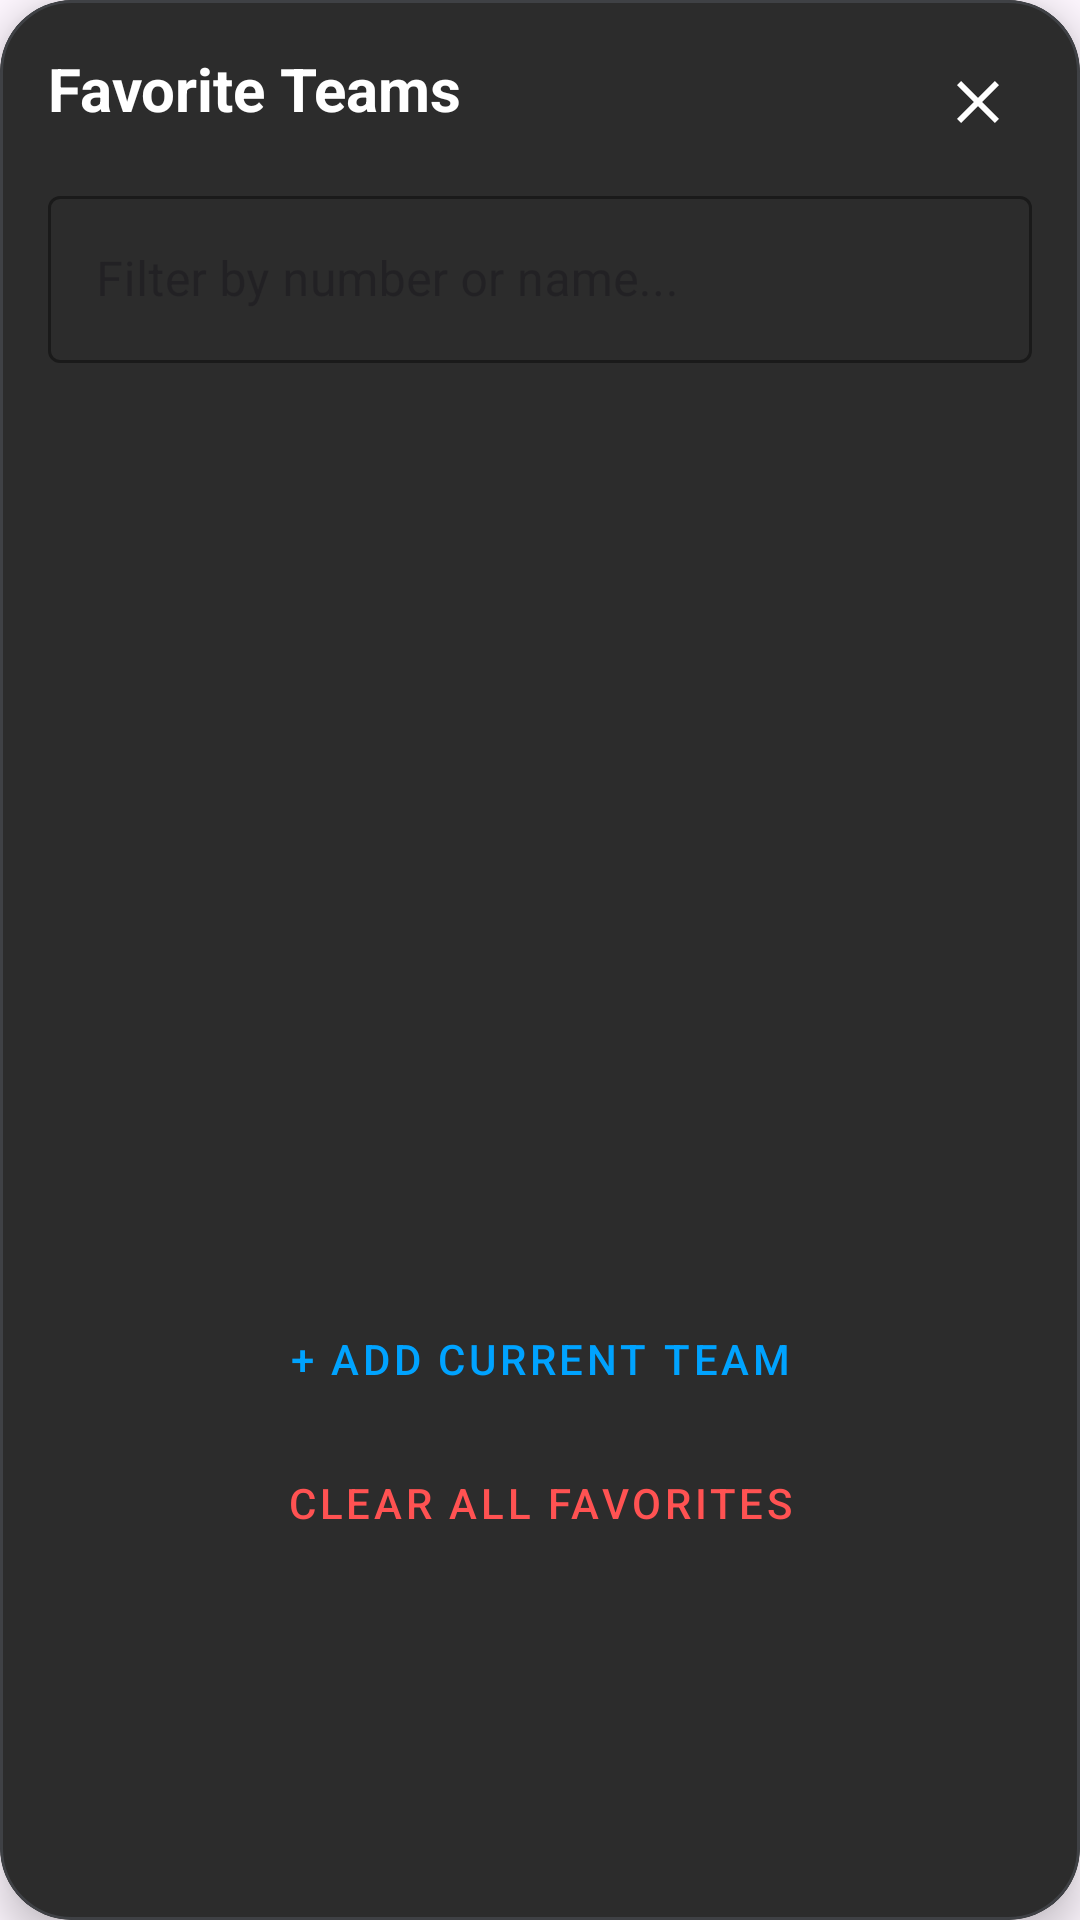

Screen size 1080w x 1920h. Icon name, then its box in pixels as (x1, y1, x2, y2):
Close: (957, 81, 999, 123)
